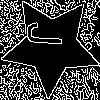J: (26, 21, 72, 48)
